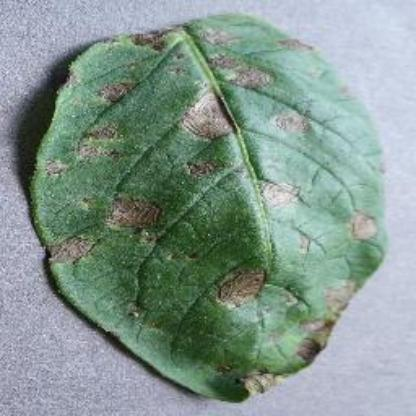Early-Blight: (28, 7, 388, 403)
